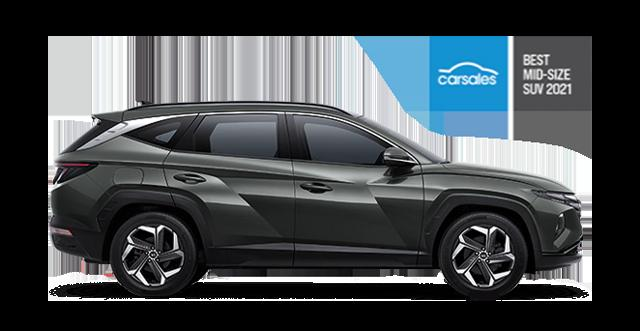hyundai: (49, 100, 585, 298)
